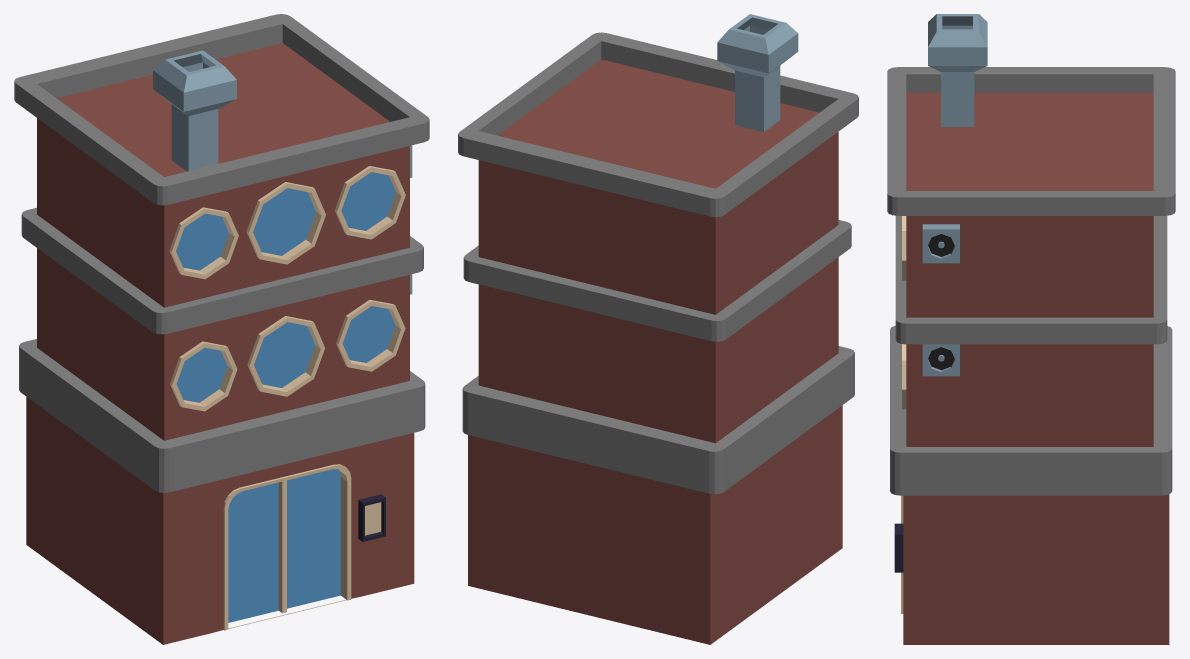
File: Building_02_v1.fbx
3 renders of one model, left to right at view 1: azimuth 30°, elevation 25°; view 2: azimuth 150°, elevation 25°; view 3: azimuth 270°, elevation 25°, orthographic. The views are drawn at different scales.
Parts seen in each view (by area): view 1: Building, topVents; view 2: Building, topVents; view 3: Building, topVents, SideVent.
Part boxes in pixels (x1=…): Building: x1=14, y1=14, x2=429, y2=644; topVents: x1=153, y1=50, x2=236, y2=171; Building: x1=458, y1=32, x2=858, y2=644; topVents: x1=717, y1=14, x2=798, y2=131; Building: x1=887, y1=67, x2=1175, y2=644; topVents: x1=928, y1=14, x2=987, y2=126; SideVent: x1=922, y1=224, x2=959, y2=376.
Size of the model in its own units: 927 by 1763 by 868.
